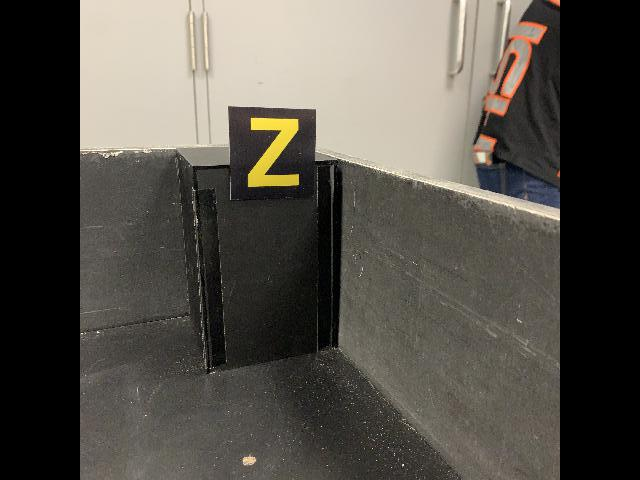alphabet_z: (227, 104, 317, 201)
